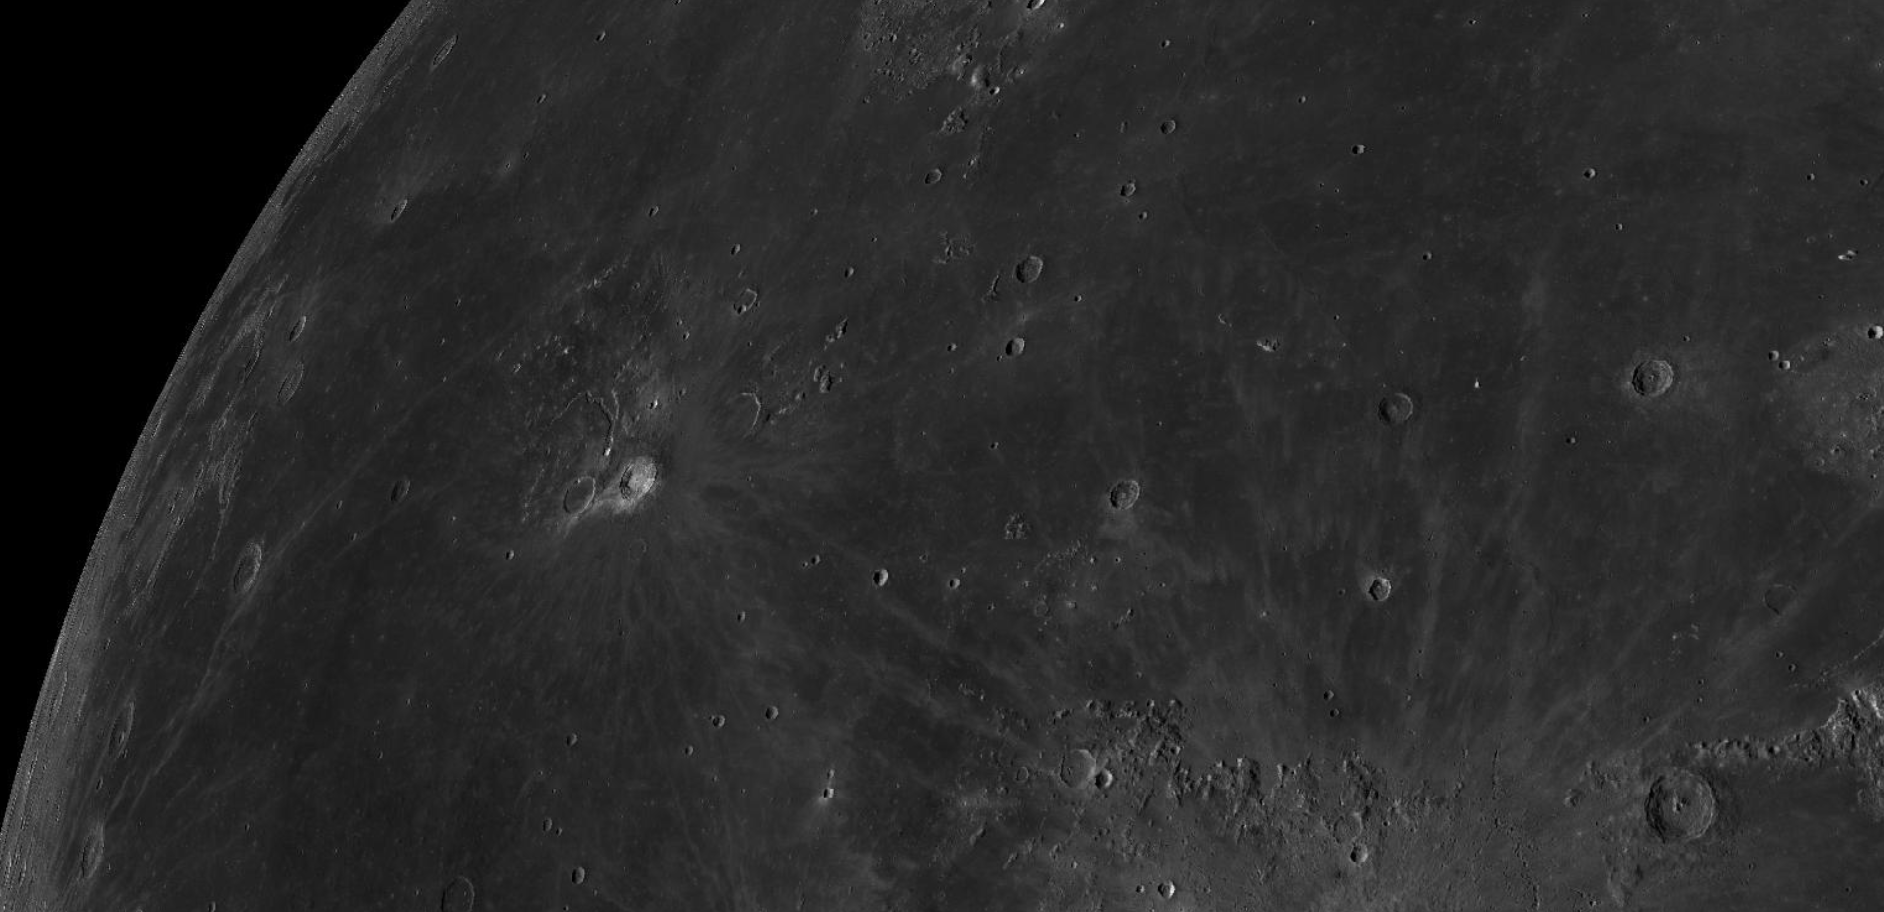crater: (1586, 759, 1749, 881), (598, 398, 686, 552), (1606, 324, 1716, 443), (1349, 360, 1475, 463), (1298, 547, 1445, 624), (187, 509, 290, 615), (76, 681, 177, 788), (1077, 446, 1194, 529), (46, 804, 138, 895), (506, 77, 594, 155), (1520, 132, 1614, 198), (1305, 114, 1399, 180), (994, 226, 1072, 300), (1128, 95, 1203, 159), (351, 455, 428, 509), (846, 541, 908, 607), (380, 189, 458, 236), (894, 154, 955, 202), (991, 329, 1053, 372), (545, 711, 603, 755), (749, 682, 798, 728), (278, 306, 328, 350)
